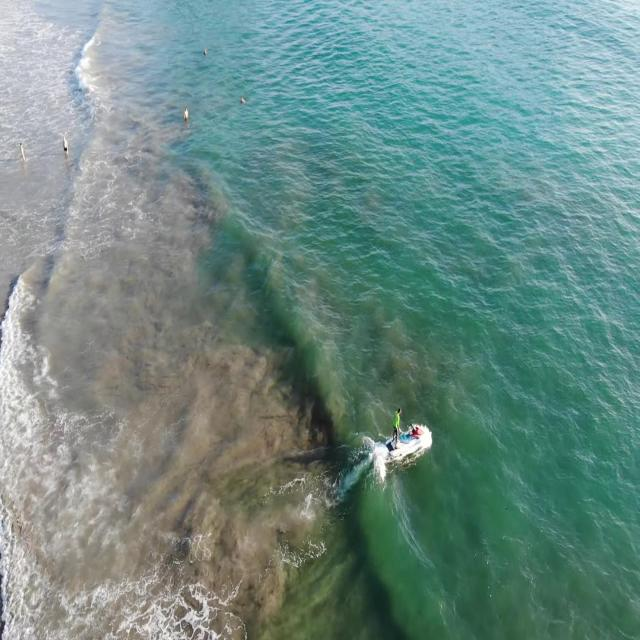boat: (384, 406, 432, 462)
